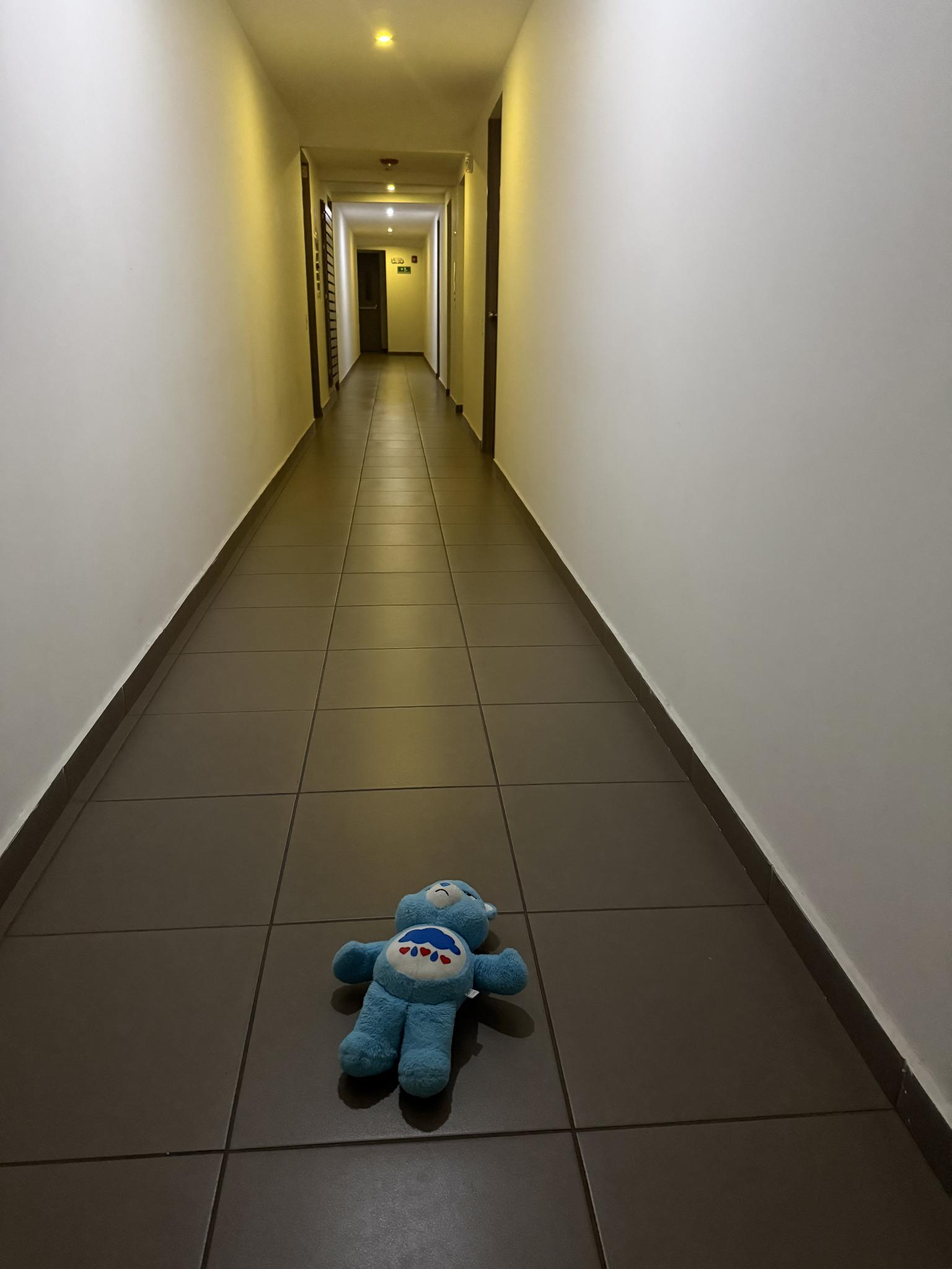peluche_Juan Jose: (318, 873, 536, 1122)
